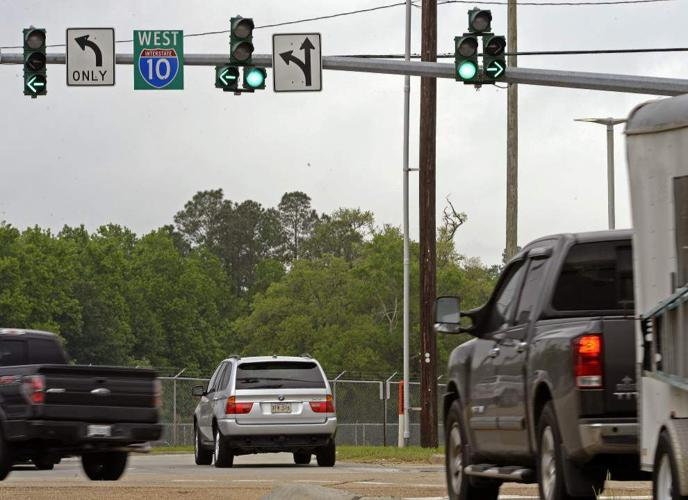greenlight: (19, 77, 55, 98), (214, 64, 237, 91), (486, 58, 506, 86), (246, 66, 268, 90), (455, 61, 479, 82), (504, 83, 517, 89)
